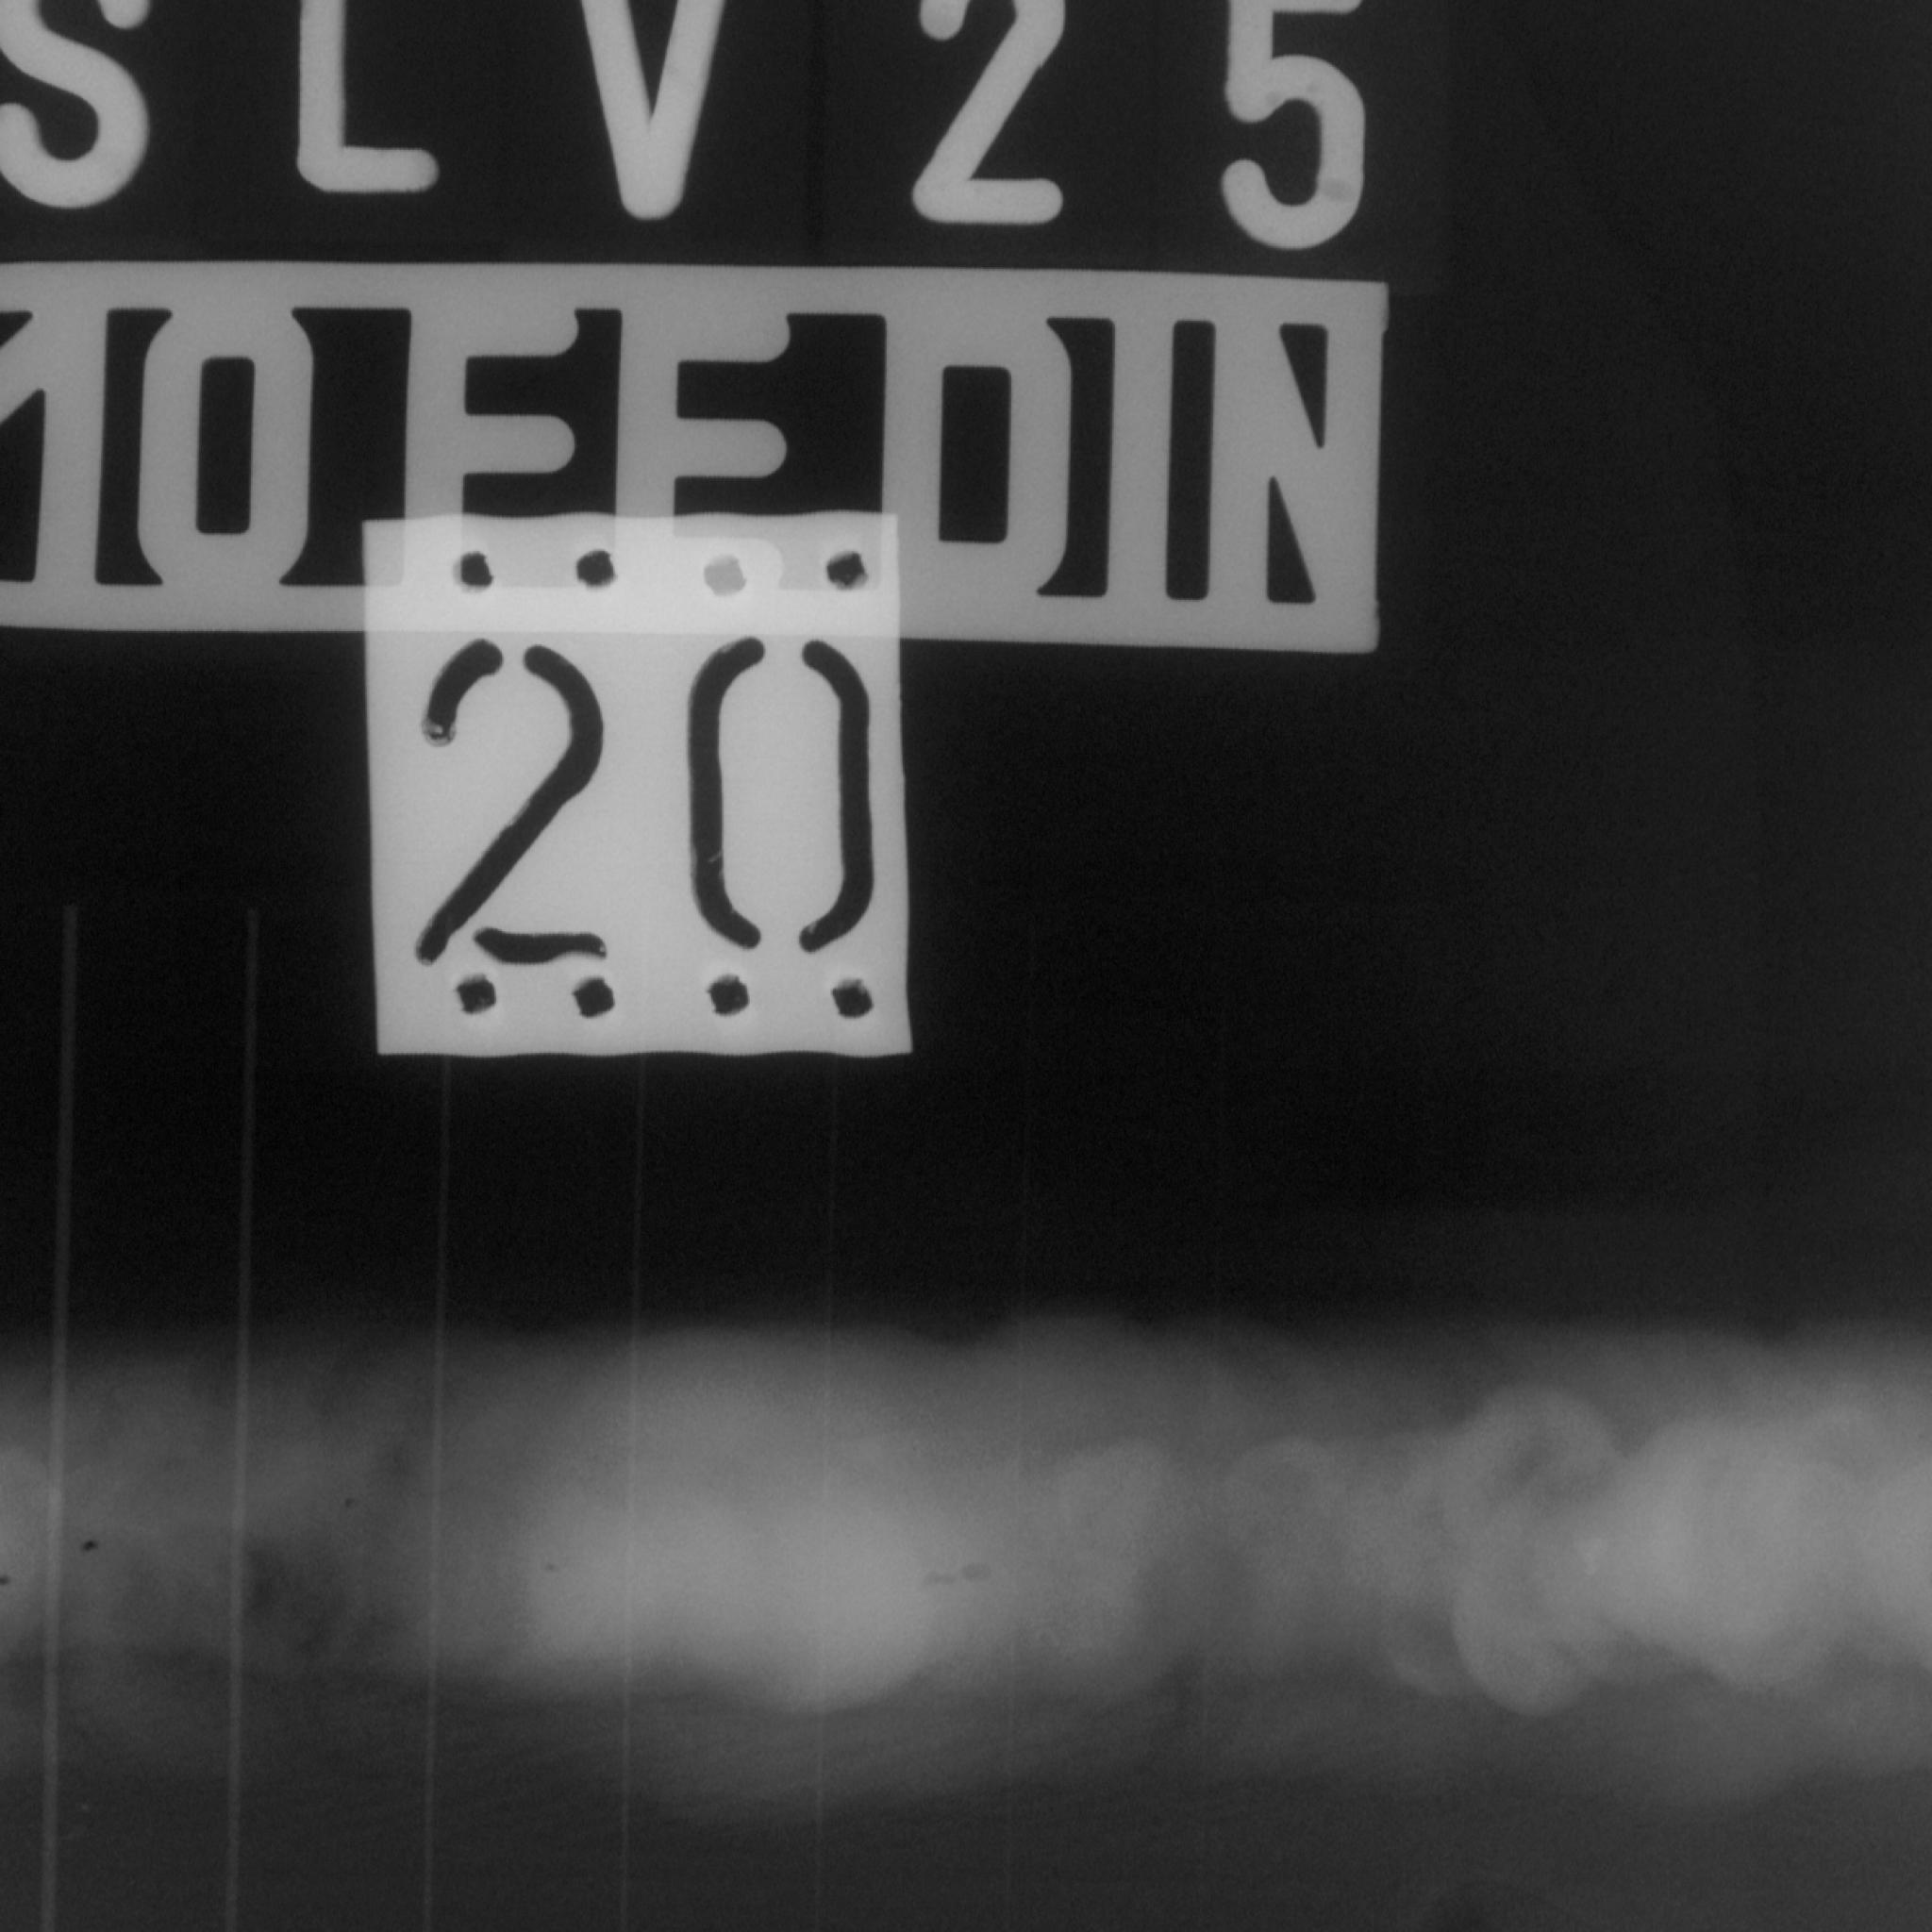FF: (48, 1294, 639, 1804), (913, 1534, 1009, 1616), (70, 1528, 109, 1564), (333, 1482, 368, 1515), (534, 1550, 564, 1585), (0, 1568, 26, 1591)
